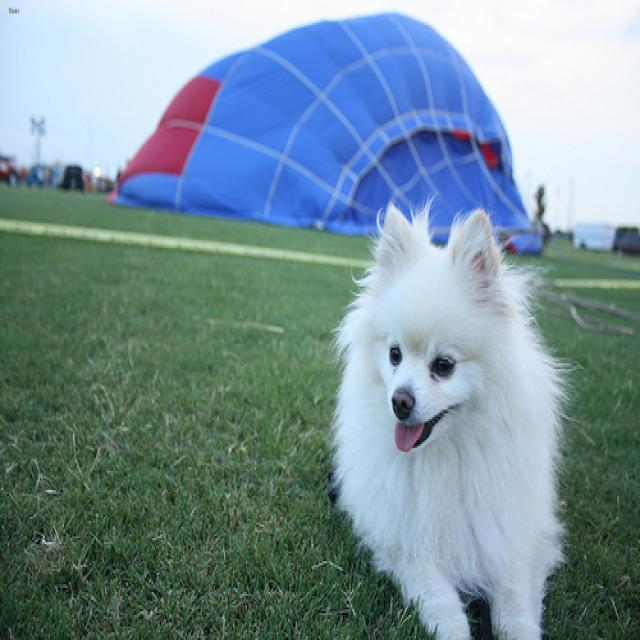dog-pomeranian: (325, 190, 582, 636)
